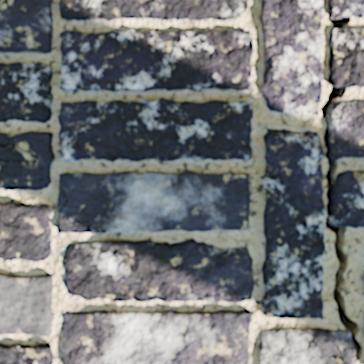brick: (58, 98, 252, 160), (64, 239, 253, 302), (262, 129, 324, 317), (57, 171, 249, 231), (61, 30, 252, 90), (62, 310, 250, 363), (261, 0, 321, 113), (260, 329, 354, 363), (0, 274, 52, 335), (0, 62, 52, 122), (0, 132, 54, 189), (0, 202, 51, 261), (102, 0, 247, 20), (0, 0, 52, 52), (329, 101, 363, 158), (332, 29, 363, 86), (332, 171, 363, 227), (0, 344, 52, 363), (58, 213, 95, 232), (329, 0, 363, 16), (60, 0, 86, 19), (88, 0, 100, 18)
crack: (321, 2, 363, 361), (56, 190, 110, 233), (94, 291, 141, 301), (328, 339, 347, 363), (95, 0, 104, 18), (84, 0, 90, 18), (8, 204, 21, 208)
